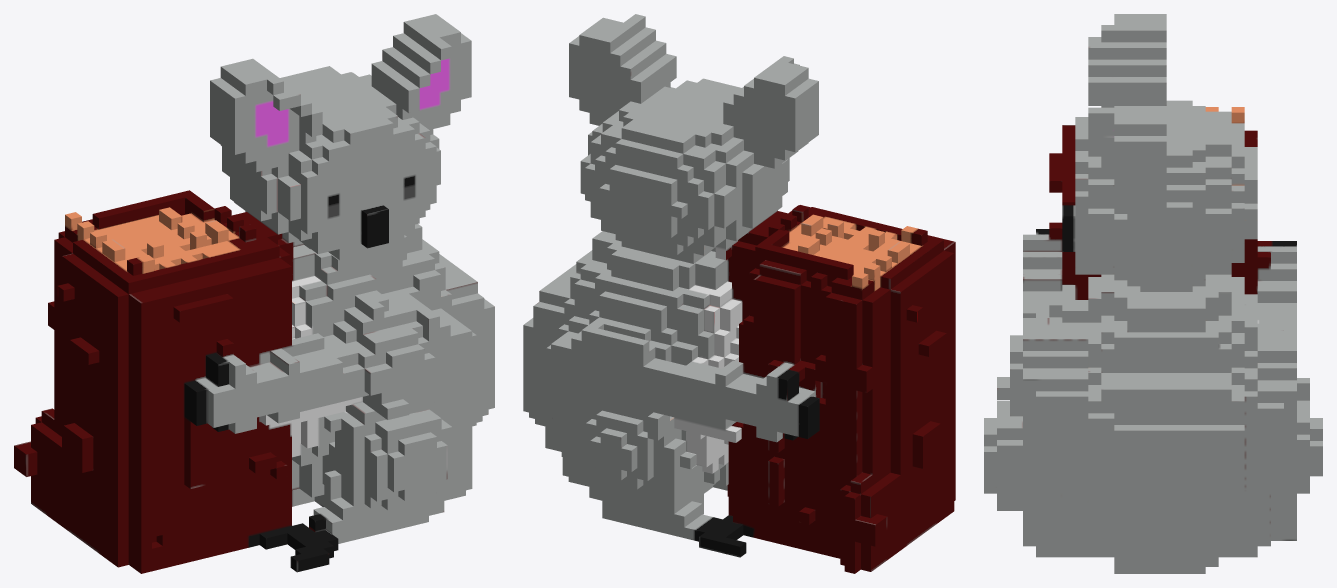
The model's file is koara.glb.
3 views of the same model, side by side, from view 1: azimuth 30°, elevation 25°; view 2: azimuth 150°, elevation 25°; view 3: azimuth 270°, elevation 25° (orthographic). The views are drawn at different scales.
Visible parts, largest first — view 1: koara; view 2: koara; view 3: koara.
Boxes of the visible parts, x1,y1,x2,y2 form: koara: (14, 14, 494, 573); koara: (523, 14, 955, 573); koara: (984, 14, 1322, 573).
Bounding box in the file's own units: 0.72 × 0.78 × 0.52.
1 material, 1 textured.
